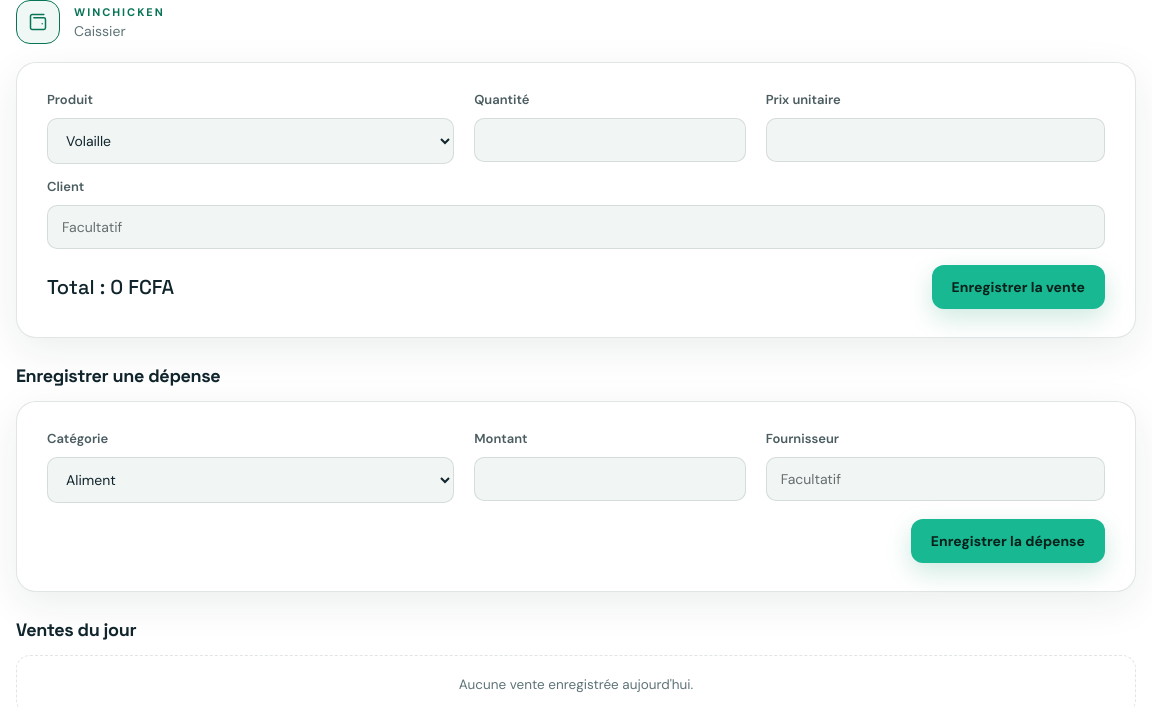
Test case: CashierPage — recording a sale › confirms in French what was recorded, not just that something was
The image size is (1152, 707).
Type "12" into the number field labelled "Quantité" at x=610, y=140, box [474,118,746,162]
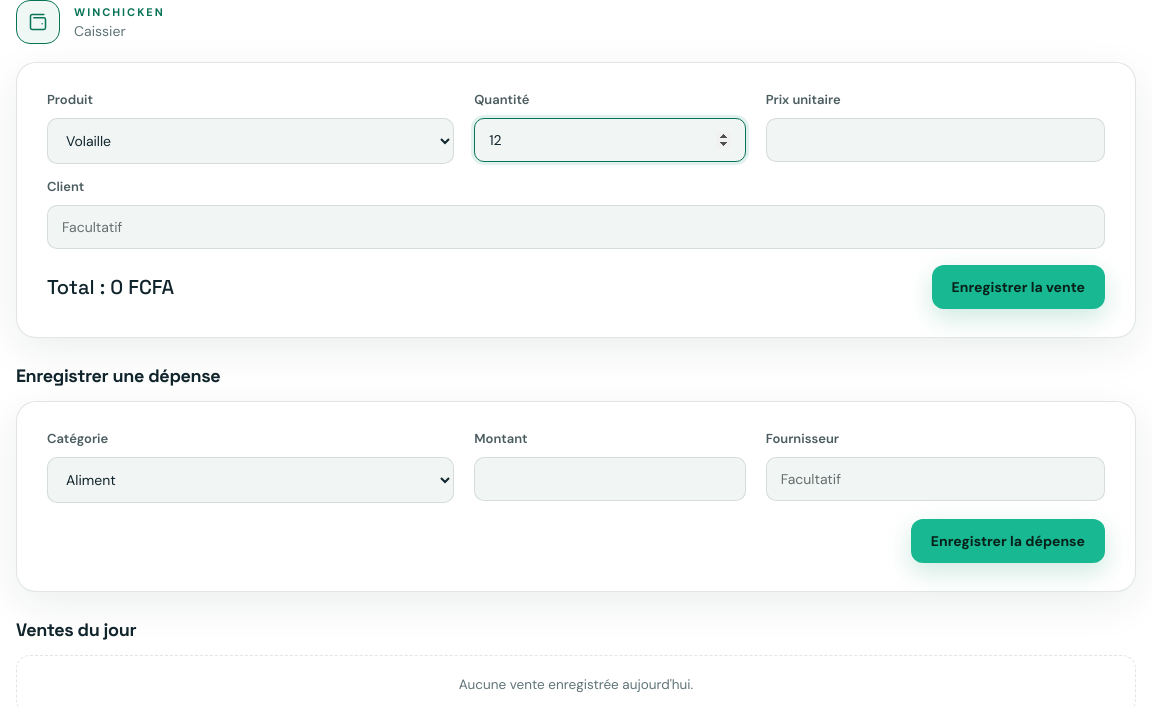
Type "2500" into the number field labelled "Prix unitaire" at x=935, y=140, box [766,118,1105,162]
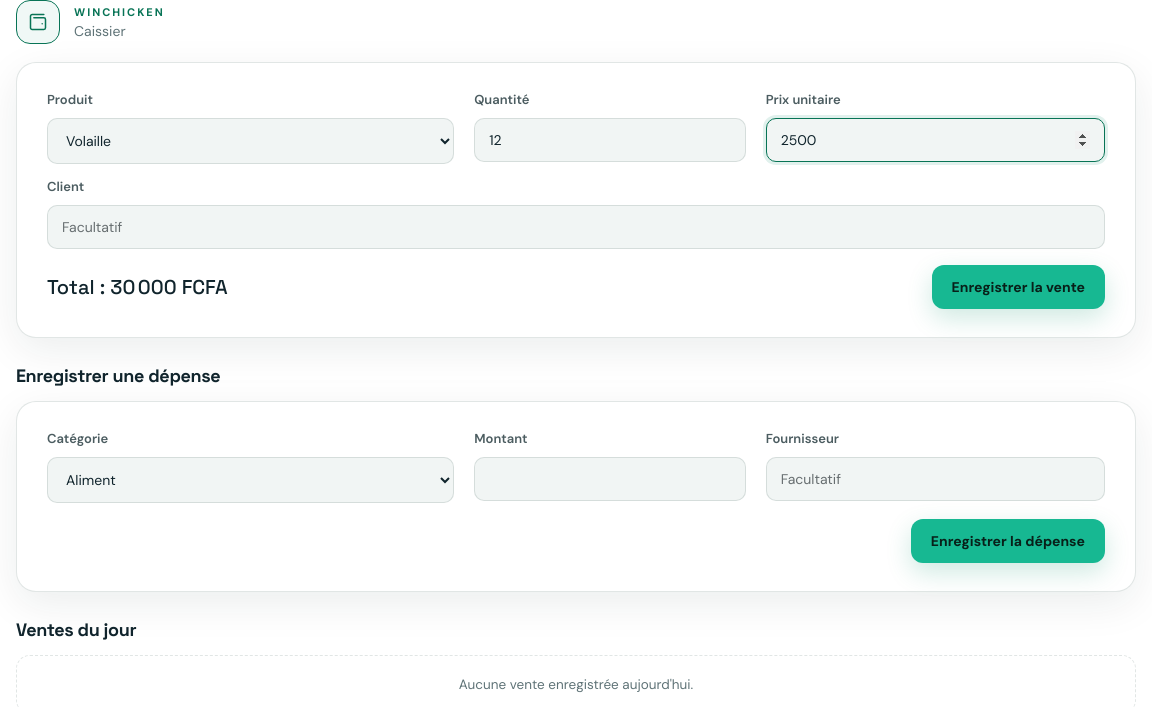
Click the button "Enregistrer la vente" at x=1018, y=287, box [932,265,1105,309]
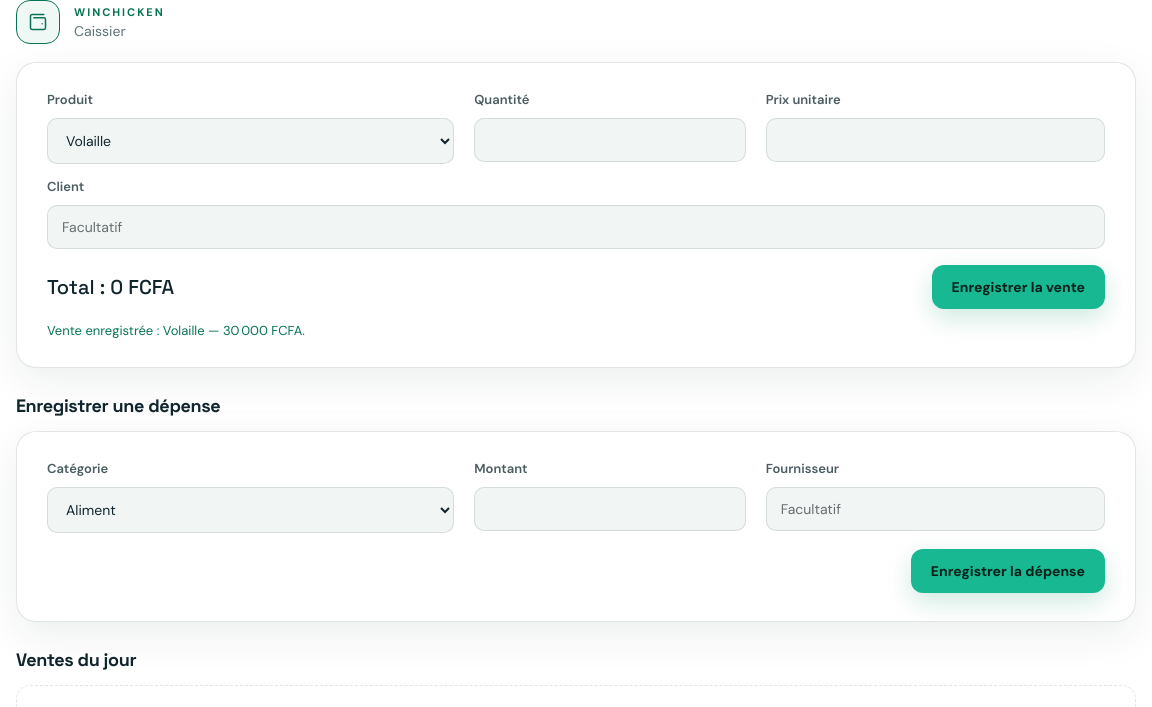
Expected: the text "Vente enregistrée : Volaille — 30 000 FCFA." is shown, [47,322,305,339]
